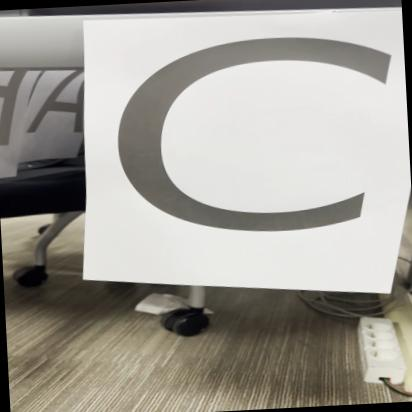seat: (94, 3, 412, 308)
